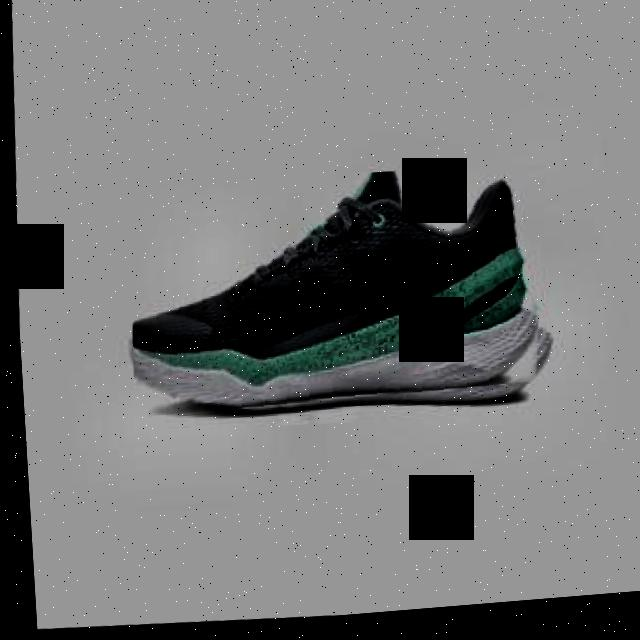shoe: (118, 159, 556, 434)
